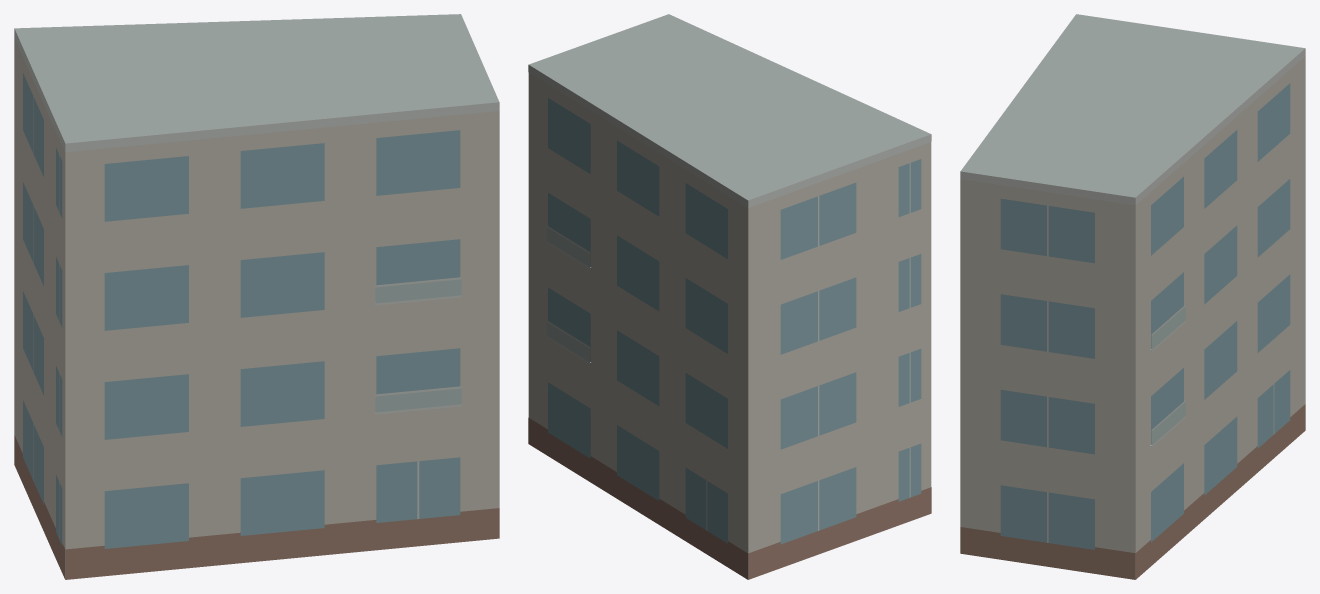
File: residential-53d96b2d-6e34-41d2-907e-8796934f5603.glb
3 renders of one model, left to right at view 1: azimuth 30°, elevation 25°; view 2: azimuth 150°, elevation 25°; view 3: azimuth 270°, elevation 25°, orthographic. The views are drawn at different scales.
Visible parts, largest first — view 1: residential-53d96b2d-6e34-41d2-907e-8796934f5603.tmp; view 2: residential-53d96b2d-6e34-41d2-907e-8796934f5603.tmp; view 3: residential-53d96b2d-6e34-41d2-907e-8796934f5603.tmp.
Boxes of the visible parts, x1,y1,x2,y2 form: residential-53d96b2d-6e34-41d2-907e-8796934f5603.tmp: (14,14,499,579); residential-53d96b2d-6e34-41d2-907e-8796934f5603.tmp: (528,14,931,579); residential-53d96b2d-6e34-41d2-907e-8796934f5603.tmp: (960,14,1305,579).
Bounding box in the file's own units: 12.58 × 12.2 × 10.
